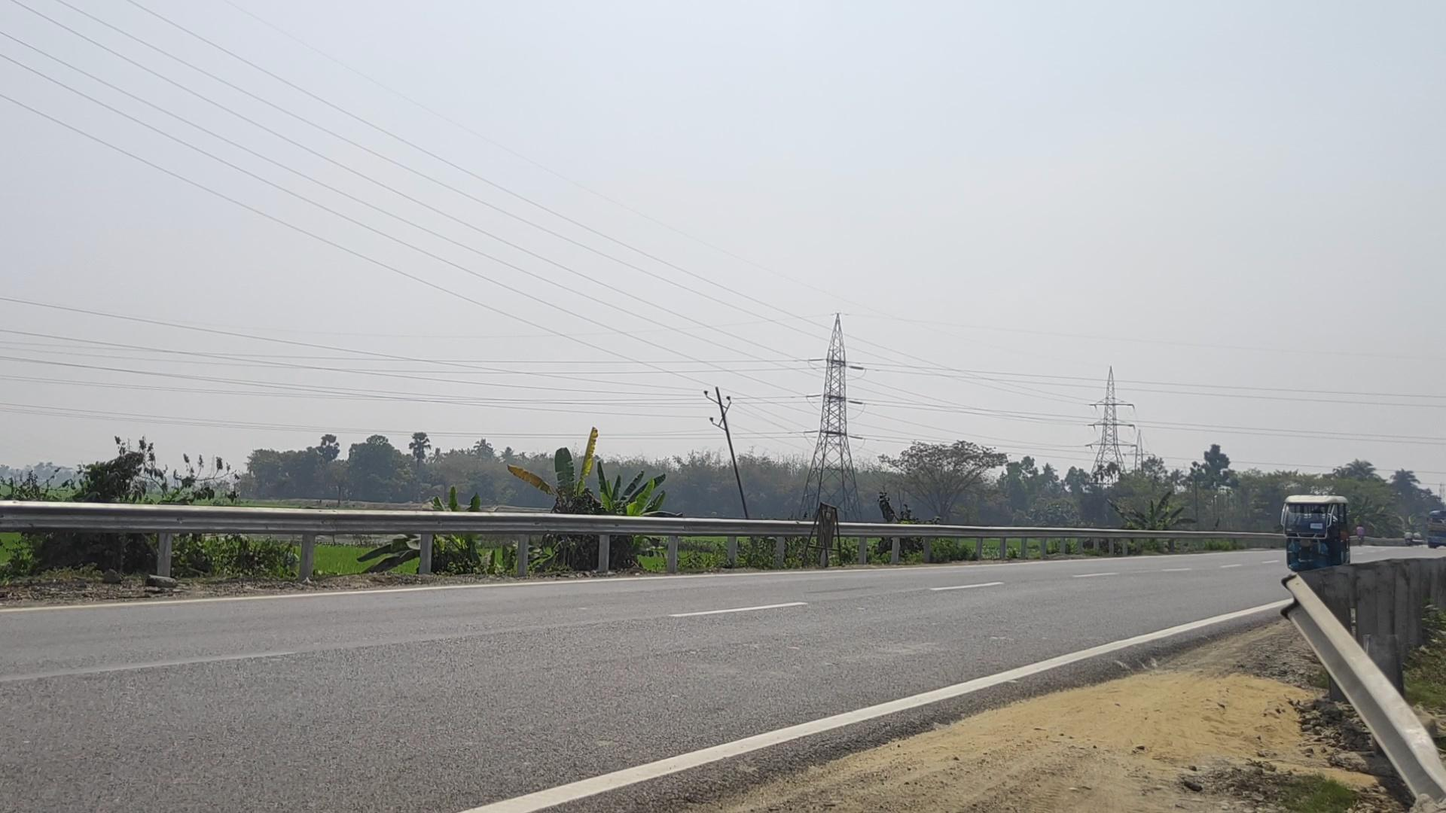Auto: (1280, 495, 1351, 580)
